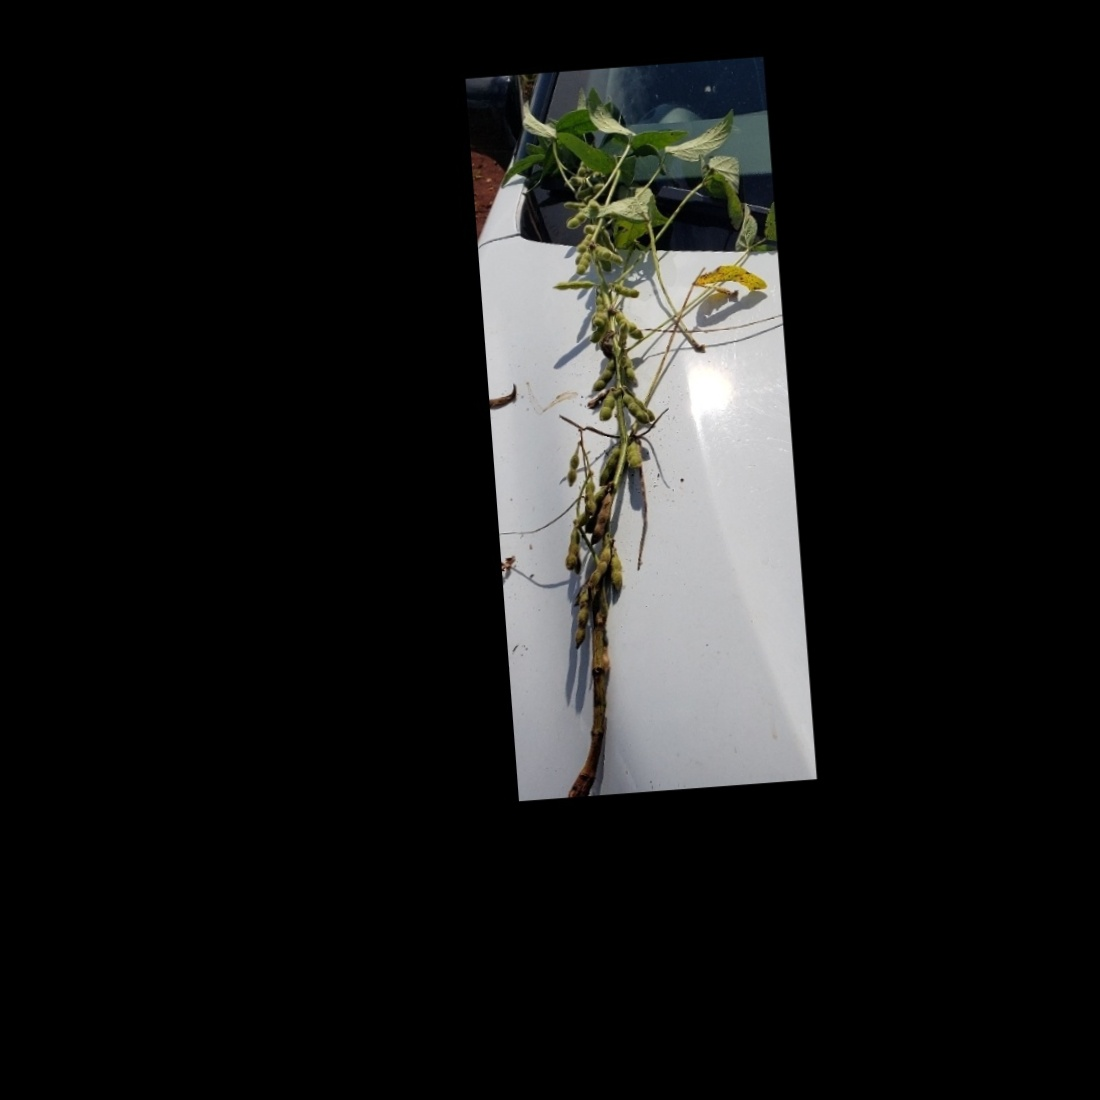pod: (561, 590, 595, 650), (582, 490, 613, 545), (584, 542, 618, 589), (618, 386, 652, 428), (588, 358, 621, 393), (549, 273, 599, 295), (561, 529, 585, 572), (562, 445, 584, 489), (594, 389, 617, 426), (620, 438, 645, 472), (606, 555, 626, 593), (572, 248, 596, 278), (610, 278, 642, 301), (563, 209, 590, 231)
soy: (483, 82, 792, 787)
